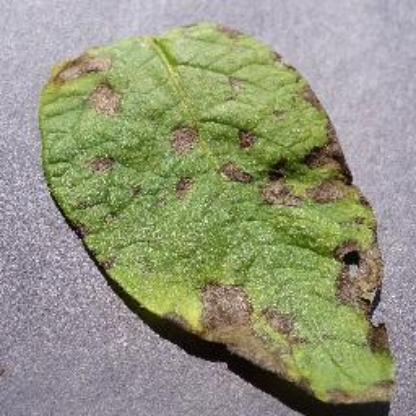Early-Blight: (38, 18, 396, 406)
